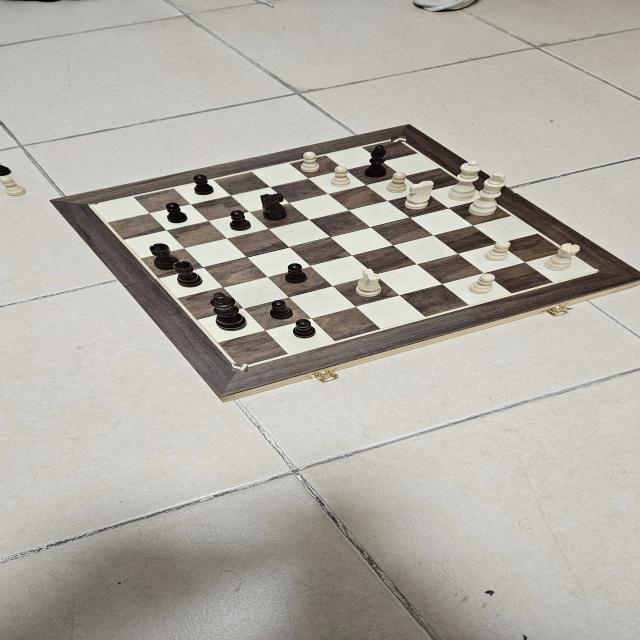chess-table-corners: (232, 364, 248, 372), (588, 268, 604, 276), (84, 201, 98, 209), (391, 136, 406, 142)
